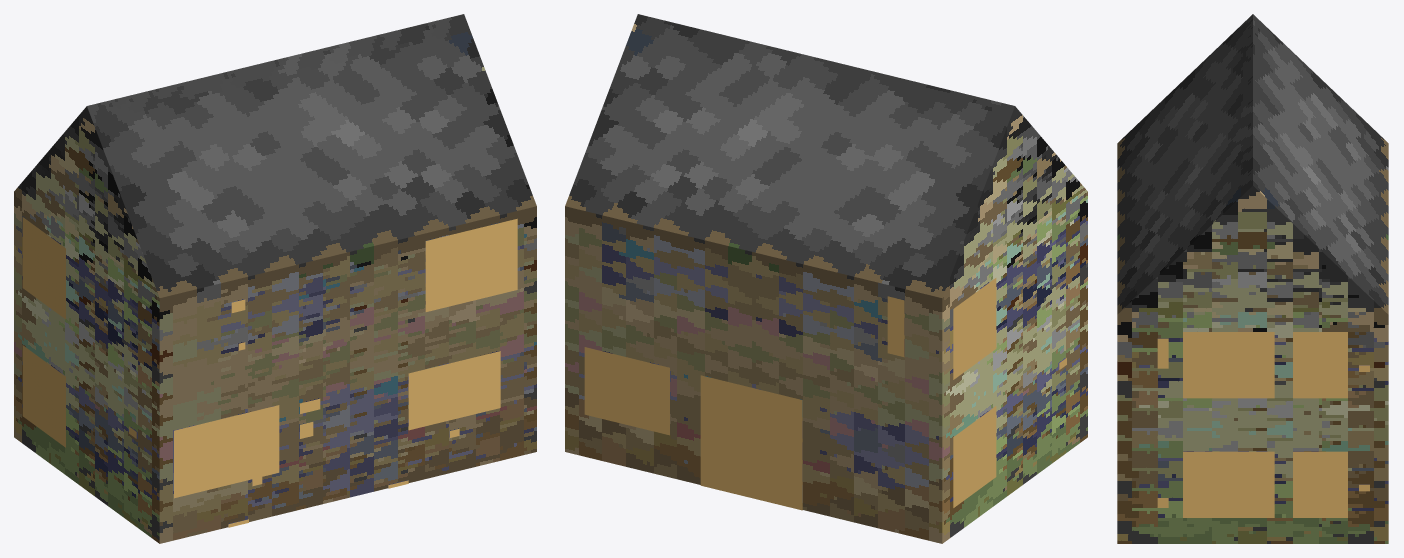
File: dum_25_domy_1.glb
3 views of the same model, side by side, from view 1: azimuth 30°, elevation 25°; view 2: azimuth 150°, elevation 25°; view 3: azimuth 270°, elevation 25° (orthographic). The views are drawn at different scales.
Parts seen in each view (by area): view 1: object 1, noc; view 2: object 1, noc; view 3: object 1, noc.
Boxes of the visible parts, x1=… form: object 1: x1=14, y1=14, x2=536, y2=543; noc: x1=22, y1=217, x2=517, y2=527; object 1: x1=565, y1=14, x2=1087, y2=543; noc: x1=584, y1=278, x2=1066, y2=510; object 1: x1=1117, y1=14, x2=1388, y2=543; noc: x1=1157, y1=332, x2=1369, y2=517.
Size of the model in its own units: 6.97 by 6.75 by 4.67.
1 material, 1 textured.
